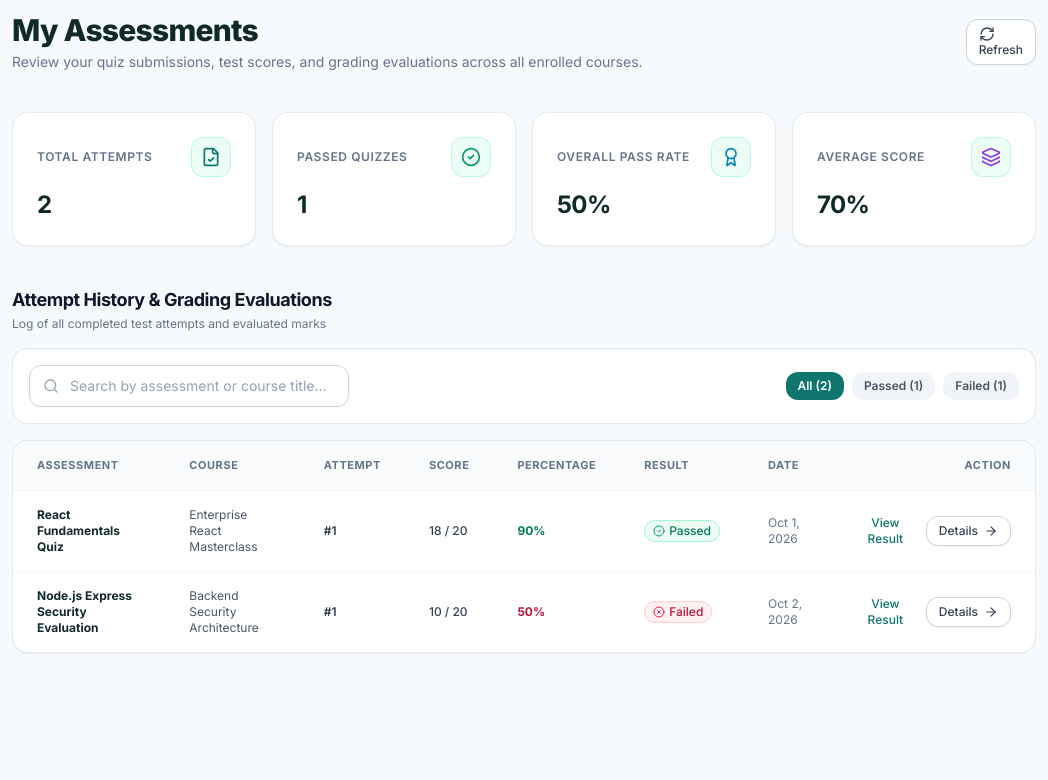
Test: AssessmentsPage › filters attempts by search query
Expected: the link "React Fundamentals Quiz" is shown, [37,506,120,554]
Type "Security" into the field with placeholder "Search by assessment or course title..." at (189, 386), box [29,365,349,407]
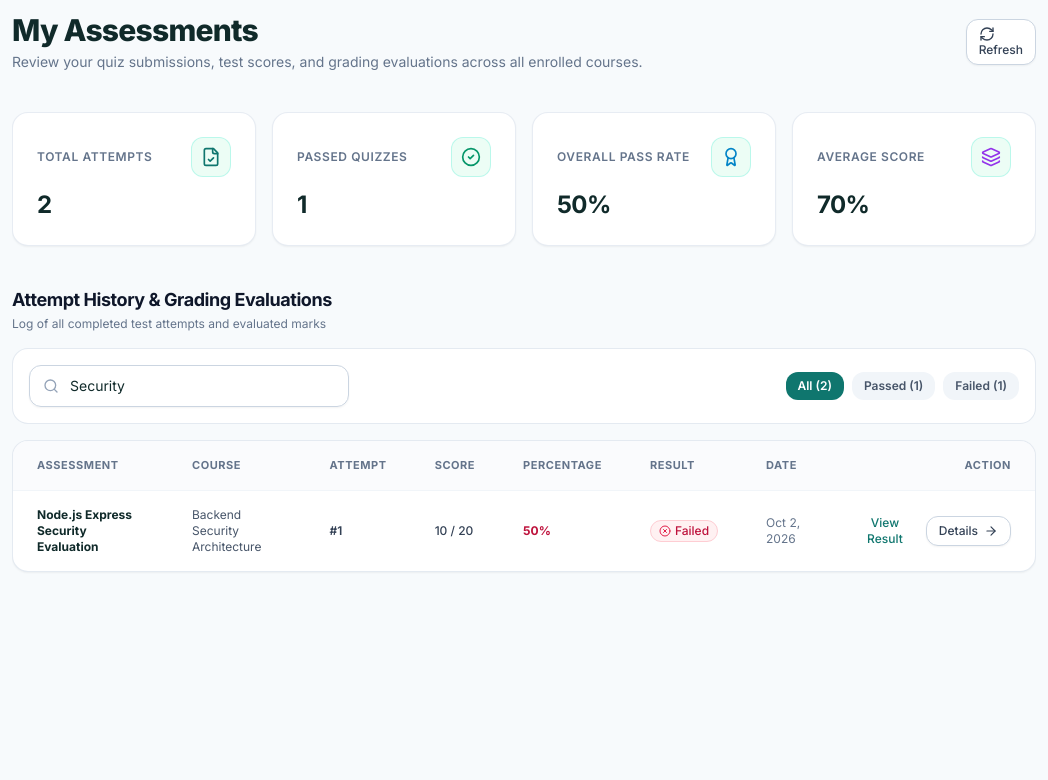
Expected: the link "Node.js Express Security Evaluation" is shown, [37,506,132,554]
Expected: the link "React Fundamentals Quiz" is gone
